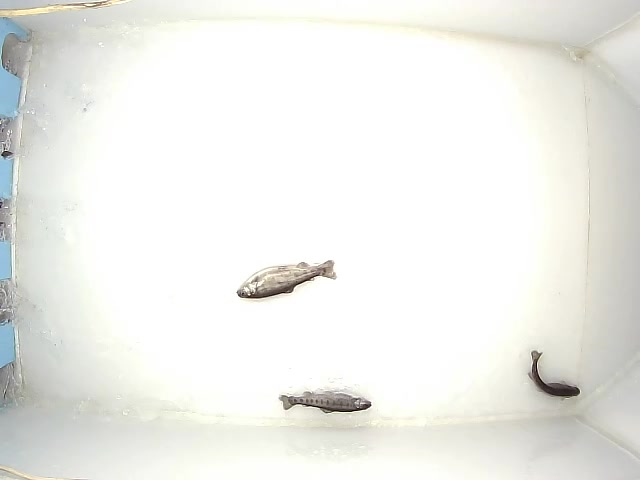fish: (236, 258, 337, 302), (525, 348, 582, 401), (278, 386, 376, 415)
